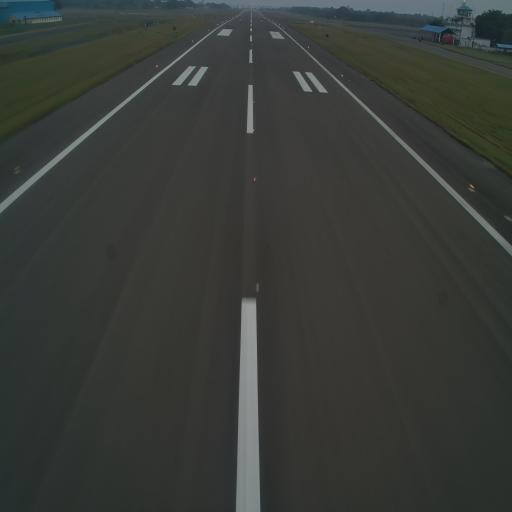off: (252, 81, 255, 88), (252, 69, 254, 73)
on: (251, 278, 262, 295), (468, 178, 476, 198), (12, 162, 22, 178), (252, 170, 260, 187), (249, 124, 257, 138), (340, 73, 344, 78), (155, 63, 158, 69), (252, 100, 255, 104), (192, 38, 194, 42), (308, 46, 310, 50)
